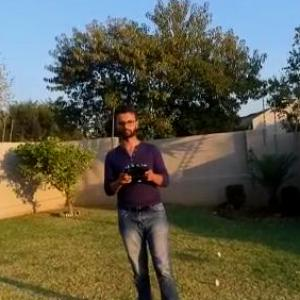follow: (100, 100, 183, 299)
